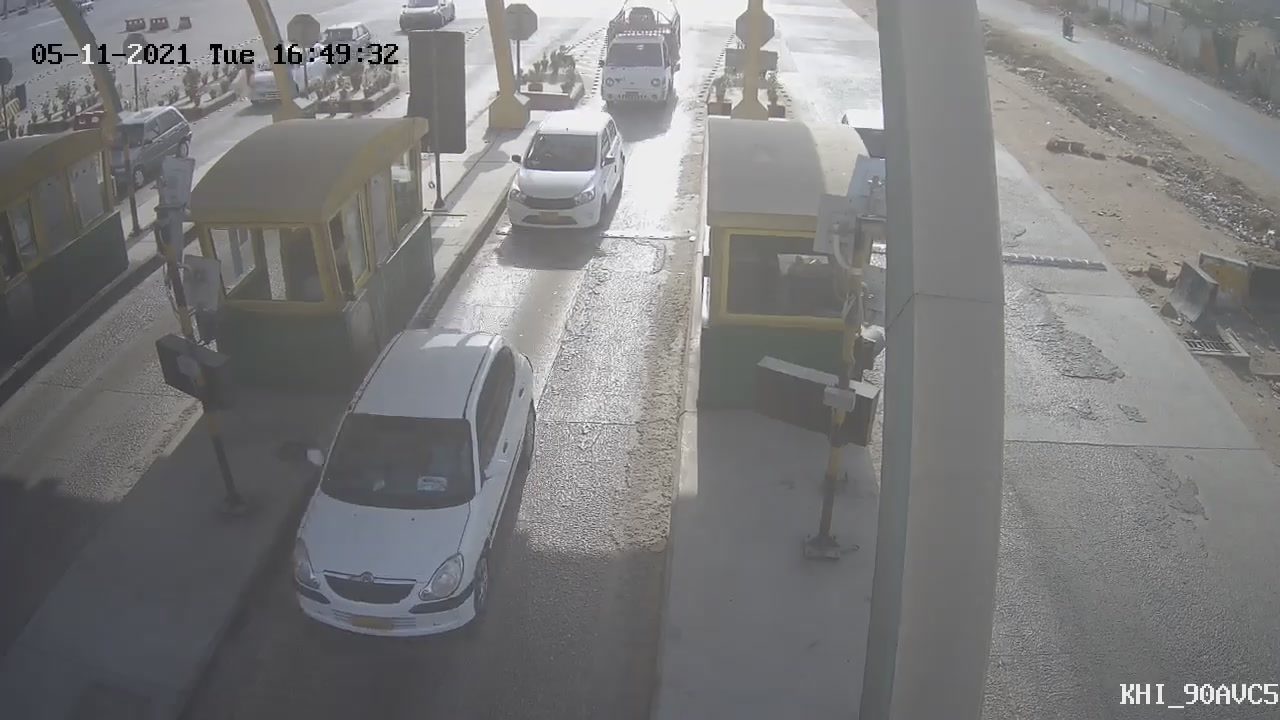F1: (490, 92, 644, 265)
